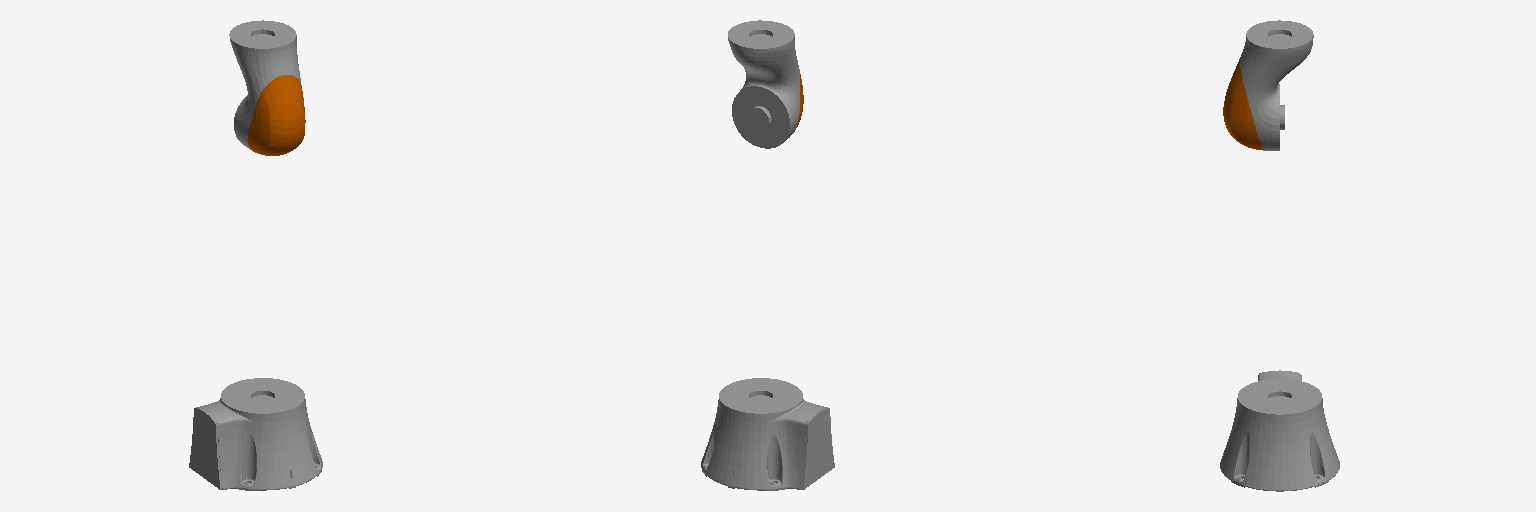
The robot description file, URDF, robot "kuka_lbr_iiwa_14_r820":
<?xml version="1.0" encoding="utf-8"?>
<!-- =================================================================================== -->
<!-- |    This document was autogenerated by xacro from lbr_iiwa_14_r820.xacro         | -->
<!-- |    EDITING THIS FILE BY HAND IS NOT RECOMMENDED                                 | -->
<!-- =================================================================================== -->
<robot name="kuka_lbr_iiwa_14_r820">
  <!-- link list -->
  <link name="base_link">
    <visual>
      <origin rpy="0 0 0" xyz="0 0 0"/>
      <geometry>
        <mesh filename="./meshes/lbr_iiwa_14_r820/visual/base_link.dae"/>
      </geometry>
    </visual>
    <collision>
      <origin rpy="0 0 0" xyz="0 0 0"/>
      <geometry>
        <mesh filename="./meshes/lbr_iiwa_14_r820/collision/base_link.stl"/>
      </geometry>
    </collision>
  </link>
  <link name="link_1">
    <visual>
      <origin rpy="0 0 0" xyz="0 0 0"/>
      <geometry>
        <mesh filename="./meshes/lbr_iiwa_14_r820/visual/link_1.dae"/>
      </geometry>
    </visual>
    <collision>
      <origin rpy="0 0 0" xyz="0 0 0"/>
      <geometry>
        <mesh filename="./meshes/lbr_iiwa_14_r820/collision/link_1.stl"/>
      </geometry>
    </collision>
  </link>
  <link name="link_2">
    <visual>
      <origin rpy="0 0 0" xyz="0 0 0"/>
      <geometry>
        <mesh filename="./meshes/lbr_iiwa_14_r820/visual/link_2.dae"/>
      </geometry>
    </visual>
    <collision>
      <origin rpy="0 0 0" xyz="0 0 0"/>
      <geometry>
        <mesh filename="./meshes/lbr_iiwa_14_r820/collision/link_2.stl"/>
      </geometry>
    </collision>
  </link>
  <link name="link_3">
    <visual>
      <origin rpy="0 0 0" xyz="0 0 0"/>
      <geometry>
        <mesh filename="./meshes/lbr_iiwa_14_r820/visual/link_3.dae"/>
      </geometry>
    </visual>
    <collision>
      <origin rpy="0 0 0" xyz="0 0 0"/>
      <geometry>
        <mesh filename="./meshes/lbr_iiwa_14_r820/collision/link_3.stl"/>
      </geometry>
    </collision>
  </link>
  <link name="link_4">
    <visual>
      <origin rpy="0 0 0" xyz="0 0 0"/>
      <geometry>
        <mesh filename="./meshes/lbr_iiwa_14_r820/visual/link_4.dae"/>
      </geometry>
    </visual>
    <collision>
      <origin rpy="0 0 0" xyz="0 0 0"/>
      <geometry>
        <mesh filename="./meshes/lbr_iiwa_14_r820/collision/link_4.stl"/>
      </geometry>
    </collision>
  </link>
  <link name="link_5">
    <visual>
      <origin rpy="0 0 0" xyz="0 0 0"/>
      <geometry>
        <mesh filename="./meshes/lbr_iiwa_14_r820/visual/link_5.dae"/>
      </geometry>
    </visual>
    <collision>
      <origin rpy="0 0 0" xyz="0 0 0"/>
      <geometry>
        <mesh filename="./meshes/lbr_iiwa_14_r820/collision/link_5.stl"/>
      </geometry>
    </collision>
  </link>
  <link name="link_6">
    <visual>
      <origin rpy="0 0 0" xyz="0 0 0"/>
      <geometry>
        <mesh filename="./meshes/lbr_iiwa_14_r820/visual/link_6.dae"/>
      </geometry>
    </visual>
    <collision>
      <origin rpy="0 0 0" xyz="0 0 0"/>
      <geometry>
        <mesh filename="./meshes/lbr_iiwa_14_r820/collision/link_6.stl"/>
      </geometry>
    </collision>
  </link>
  <link name="link_7">
    <visual>
      <origin rpy="0 0 0" xyz="0 0 0"/>
      <geometry>
        <mesh filename="./meshes/lbr_iiwa_14_r820/visual/link_7.dae"/>
      </geometry>
    </visual>
    <collision>
      <origin rpy="0 0 0" xyz="0 0 0"/>
      <geometry>
        <mesh filename="./meshes/lbr_iiwa_14_r820/collision/link_7.stl"/>
      </geometry>
    </collision>
  </link>
  <link name="tool0"/>
  <!-- end of link list -->
  <!-- joint list -->
  <joint name="joint_a1" type="revolute">
    <origin rpy="0 0 0" xyz="0 0 0"/>
    <parent link="base_link"/>
    <child link="link_1"/>
    <axis xyz="0 0 1"/>
    <limit effort="0" lower="-2.9668" upper="2.9668" velocity="1.4834"/>
  </joint>
  <joint name="joint_a2" type="revolute">
    <origin rpy="0 0 0" xyz="-0.00043624 0 0.36"/>
    <parent link="link_1"/>
    <child link="link_2"/>
    <axis xyz="0 1 0"/>
    <limit effort="0" lower="-2.0942" upper="2.0942" velocity="1.4834"/>
  </joint>
  <joint name="joint_a3" type="revolute">
    <origin rpy="0 0 0" xyz="0 0 0"/>
    <parent link="link_2"/>
    <child link="link_3"/>
    <axis xyz="0 0 1"/>
    <limit effort="0" lower="-2.9668" upper="2.9668" velocity="1.7452"/>
  </joint>
  <joint name="joint_a4" type="revolute">
    <origin rpy="0 0 0" xyz="0.00043624 0 0.42"/>
    <parent link="link_3"/>
    <child link="link_4"/>
    <axis xyz="0 -1 0"/>
    <limit effort="0" lower="-2.0942" upper="2.0942" velocity="1.3089"/>
  </joint>
  <joint name="joint_a5" type="revolute">
    <origin rpy="0 0 0" xyz="0 0 0"/>
    <parent link="link_4"/>
    <child link="link_5"/>
    <axis xyz="0 0 1"/>
    <limit effort="0" lower="-2.9668" upper="2.9668" velocity="2.2688"/>
  </joint>
  <joint name="joint_a6" type="revolute">
    <origin rpy="0 0 0" xyz="0 0 0.4"/>
    <parent link="link_5"/>
    <child link="link_6"/>
    <axis xyz="0 1 0"/>
    <limit effort="0" lower="-2.0942" upper="2.0942" velocity="2.356"/>
  </joint>
  <joint name="joint_a7" type="revolute">
    <origin rpy="0 0 0" xyz="0 0 0"/>
    <parent link="link_6"/>
    <child link="link_7"/>
    <axis xyz="0 0 1"/>
    <limit effort="0" lower="-3.0541" upper="3.0541" velocity="2.356"/>
  </joint>
  <joint name="joint_a7-tool0" type="fixed">
    <origin rpy="0 0 0" xyz="0 0 0.126"/>
    <parent link="link_7"/>
    <child link="tool0"/>
    <axis xyz="0 0 0"/>
  </joint>
  <!-- end of joint list -->
  <!-- ROS base_link to KUKA $ROBROOT coordinate system transform -->
  <link name="base"/>
  <joint name="base_link-base" type="fixed">
    <origin rpy="0 0 0" xyz="0 0 0"/>
    <parent link="base_link"/>
    <child link="base"/>
  </joint>
</robot>

--- Render facts (derived) ---
3 views of the same robot in one strip: view 1: azimuth 30°, elevation 25°; view 2: azimuth 150°, elevation 25°; view 3: azimuth 270°, elevation 25° (orthographic).
Model kuka_lbr_iiwa_14_r820 with 10 links and 9 joints (7 revolute, 2 fixed), rooted at base_link, posed all joints at 0.
Visible links, largest first — view 1: base_link, link_4; view 2: base_link, link_4; view 3: base_link, link_4.
Link boxes in pixels (bbox=[...]): base_link: bbox=[189, 378, 322, 490]; link_4: bbox=[229, 20, 305, 155]; base_link: bbox=[701, 378, 834, 490]; link_4: bbox=[728, 20, 803, 148]; base_link: bbox=[1220, 370, 1339, 491]; link_4: bbox=[1223, 20, 1313, 150].
Bounding box of the posed robot: 0.2575 × 0.2426 × 0.9645 m (x, y, z).
2 mesh visuals loaded from 8 distinct referenced files (2 Collada DAE); not drawn: 6 (reference not matched to a file when rendering).